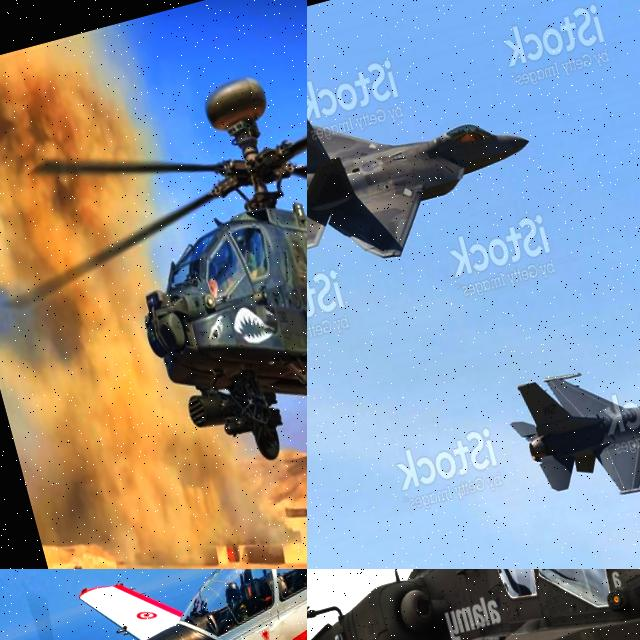Apache: (0, 0, 307, 530), (307, 569, 640, 640)
F22: (307, 44, 554, 304), (498, 330, 640, 515)
KT-1: (0, 569, 307, 640)
